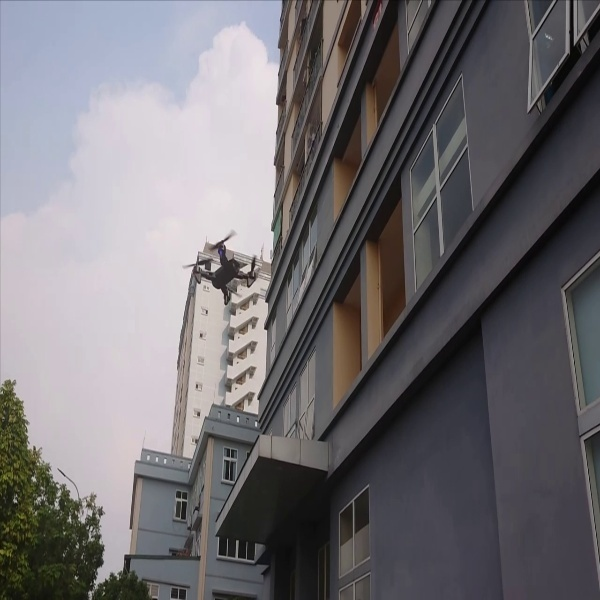drone: (183, 228, 263, 304)
